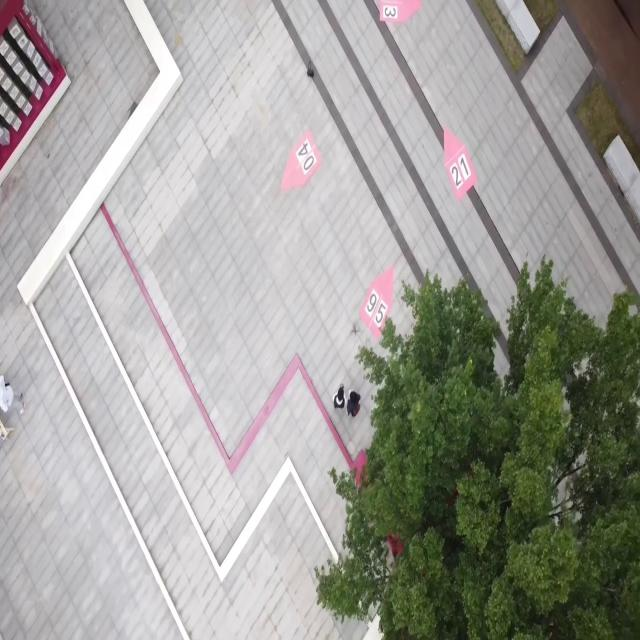-sign-: (0, 0, 70, 191), (360, 264, 395, 340), (443, 126, 477, 202), (282, 127, 322, 191), (378, 1, 422, 24)
